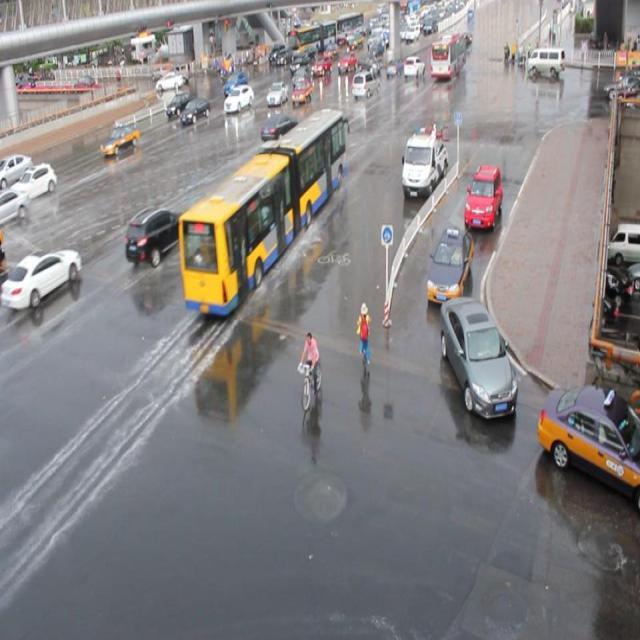bus: (400, 126, 447, 197)
car: (535, 382, 640, 513), (438, 294, 516, 416), (1, 247, 81, 310), (125, 206, 187, 266), (426, 225, 474, 302), (463, 165, 502, 228), (12, 161, 58, 200), (253, 139, 294, 180), (100, 124, 139, 156), (260, 113, 300, 144), (1, 187, 30, 228), (1, 154, 34, 189), (224, 84, 254, 114), (180, 96, 211, 124), (165, 91, 195, 118), (352, 71, 379, 98), (290, 78, 313, 105), (223, 72, 247, 96), (266, 81, 289, 106)
van: (177, 106, 346, 316)
